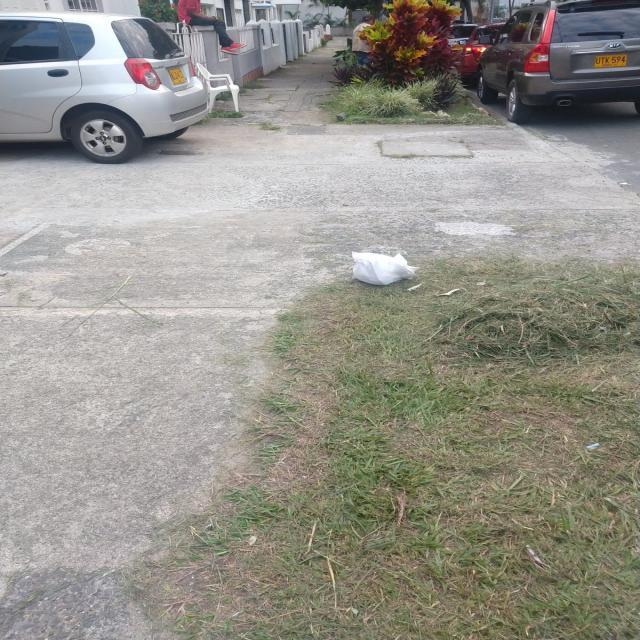Garbage_Bag: (346, 245, 425, 290)
